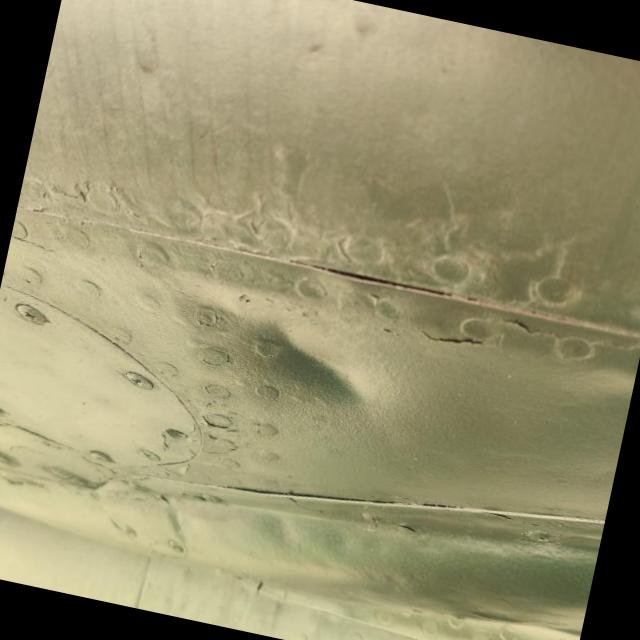Dent: (181, 253, 405, 443)
